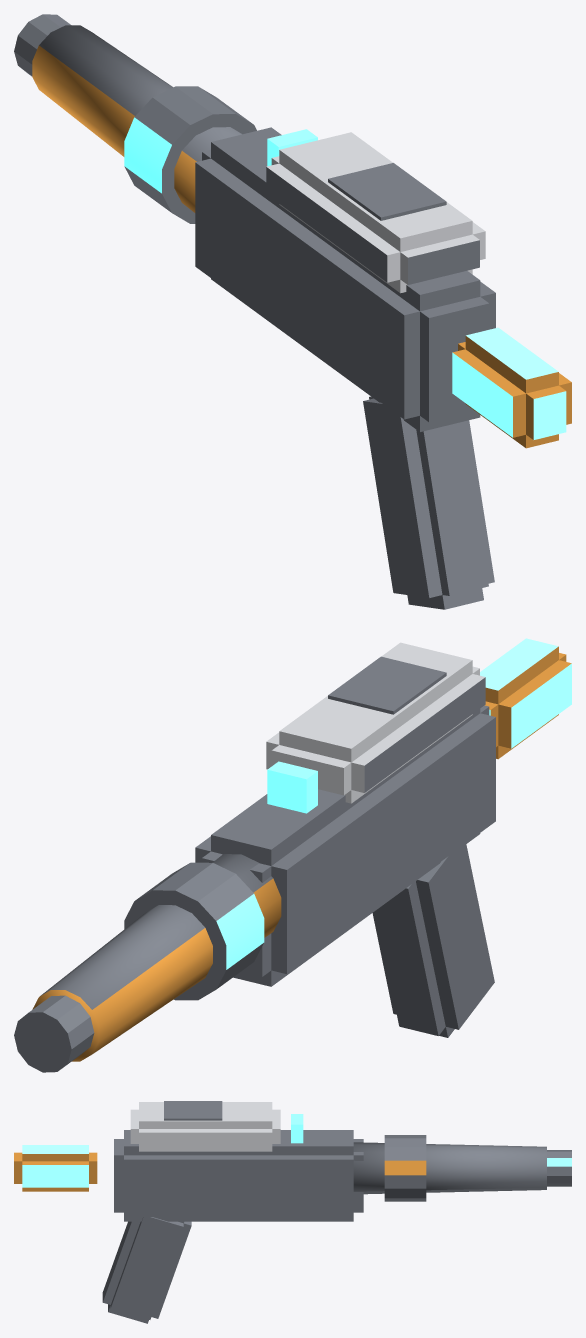
The model's file is multitool.glb.
3 views of the same model, one above another, from view 1: azimuth 30°, elevation 25°; view 2: azimuth 150°, elevation 25°; view 3: azimuth 270°, elevation 25° (orthographic). The views are drawn at different scales.
Parts seen in each view (by area): view 1: Tool_Multi; view 2: Tool_Multi; view 3: Tool_Multi.
Boxes of the visible parts, bbox=[...] form: Tool_Multi: bbox=[14, 14, 571, 609]; Tool_Multi: bbox=[14, 638, 571, 1072]; Tool_Multi: bbox=[14, 1101, 571, 1323].
Size of the model in its own units: 0.078 by 0.2766 by 0.67.
